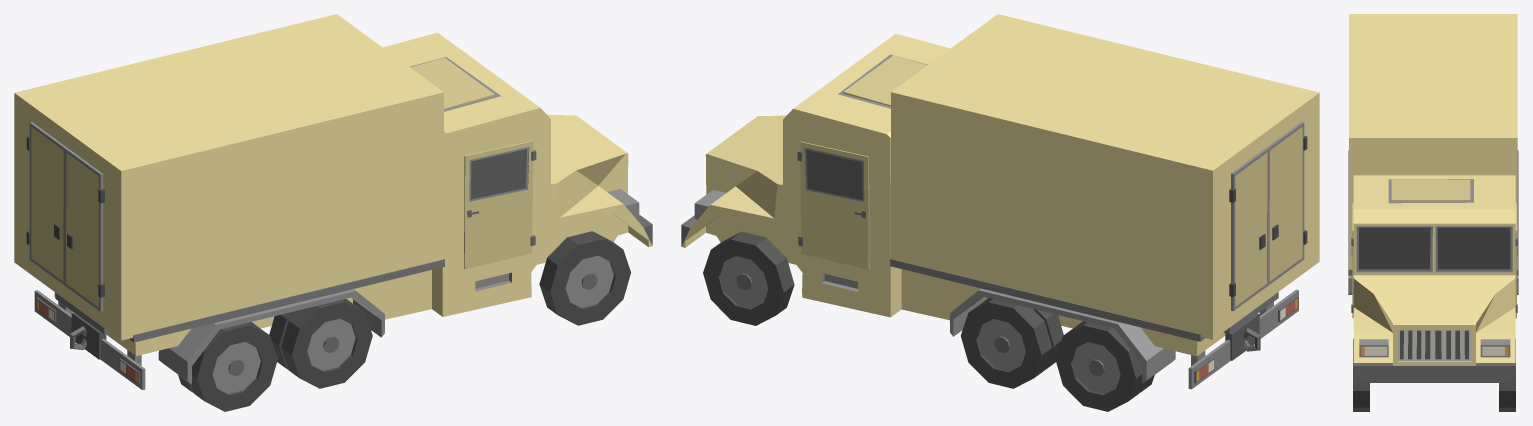
Rendered from kar3.fbx.
3 views of the same model, side by side, from view 1: azimuth 30°, elevation 25°; view 2: azimuth 150°, elevation 25°; view 3: azimuth 270°, elevation 25° (orthographic). The views are drawn at different scales.
Parts seen in each view (by area): view 1: Boole_2, Cylinder_11, Cylinder_3, Cylinder_2; view 2: Boole_2, Cylinder_5, Cylinder_6, Cylinder_1; view 3: Boole_2, Cylinder_3, Cylinder_6.
Part boxes in pixels (x1,y1,x2,y2): Boole_2: [14, 14, 652, 390]; Cylinder_11: [269, 299, 372, 388]; Cylinder_3: [539, 231, 630, 325]; Cylinder_2: [178, 322, 277, 411]; Boole_2: [681, 14, 1319, 389]; Cylinder_5: [960, 298, 1063, 388]; Cylinder_6: [703, 231, 794, 325]; Cylinder_1: [1055, 321, 1154, 411]; Boole_2: [1348, 14, 1518, 382]; Cylinder_3: [1353, 338, 1369, 411]; Cylinder_6: [1499, 339, 1515, 411].
Size of the model in its own units: 665 by 317 by 231.
